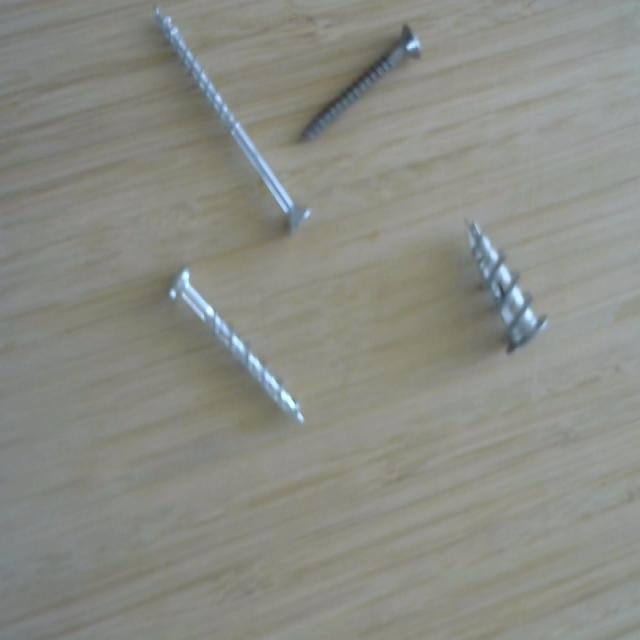Black screw: (289, 16, 429, 152)
Long screw: (143, 0, 321, 245)
Medium screw: (157, 252, 313, 434)
Short screw: (455, 208, 557, 364)
